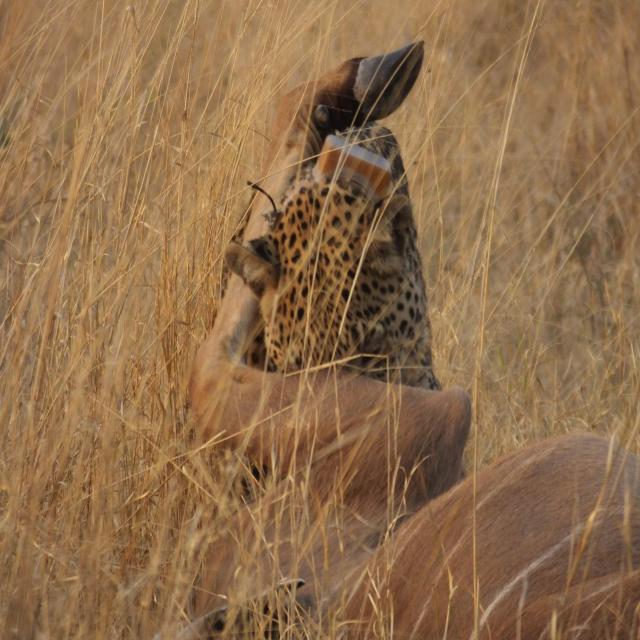Leopard: (228, 115, 442, 401)
